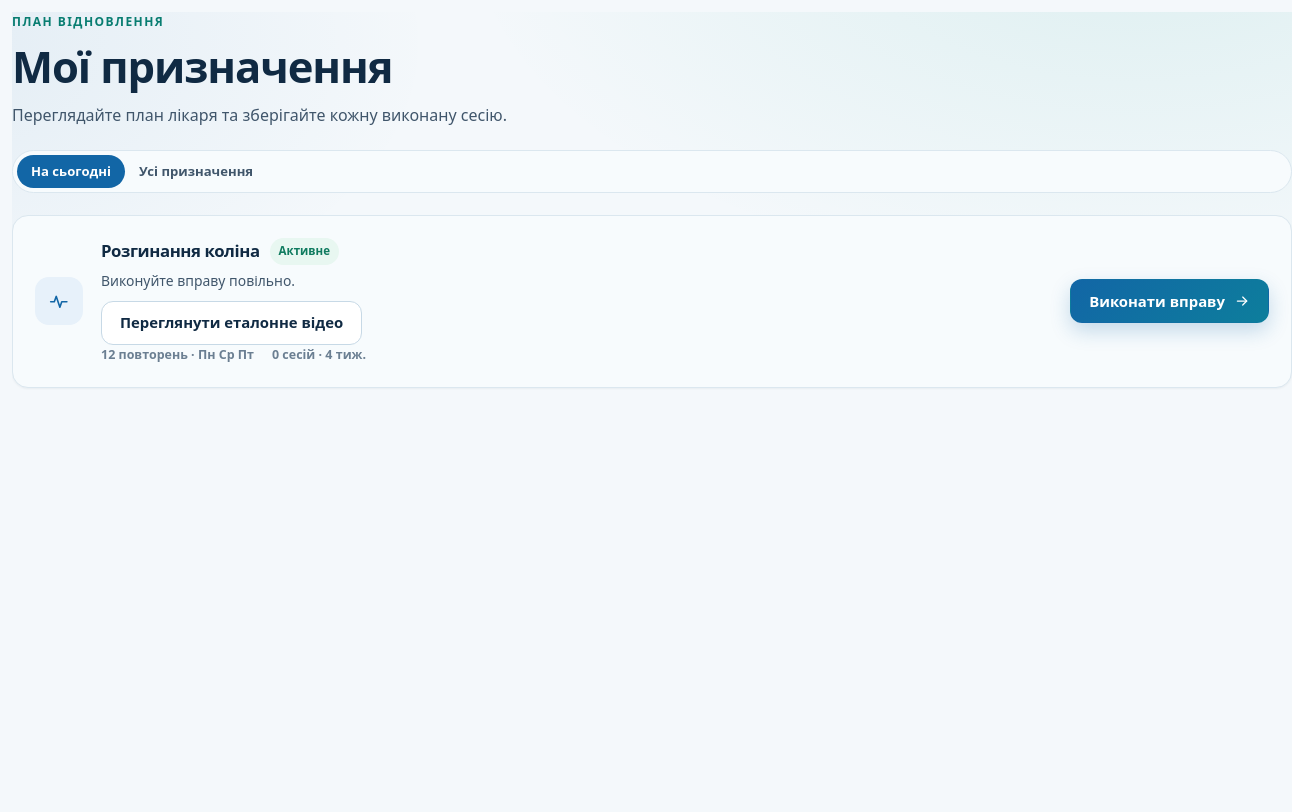
Test: Patient access and cabinet pages › shows the reference video after the patient asks for it
Click the tab "Усі призначення".
click(196, 172)  # box [125,155,267,188]
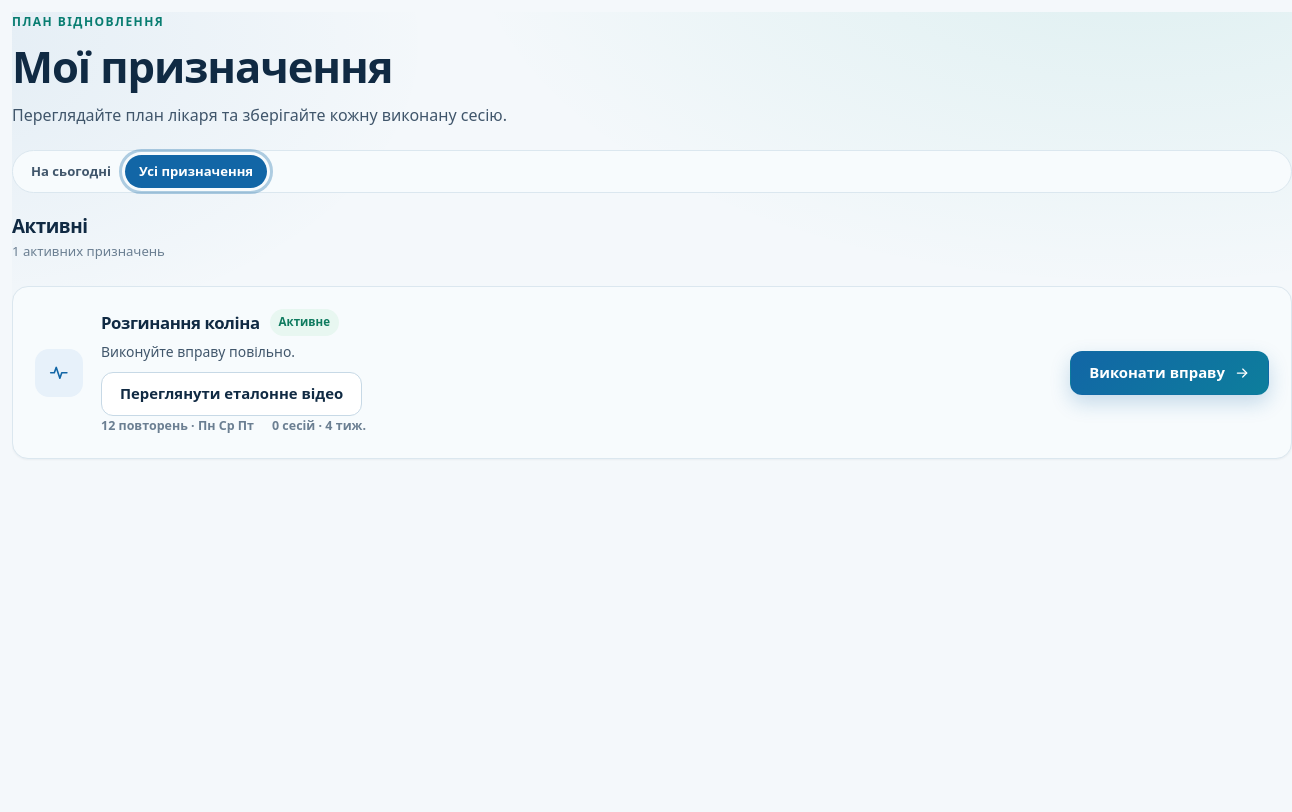
Click the button "Переглянути еталонне відео".
click(232, 394)  # box [101,372,362,416]
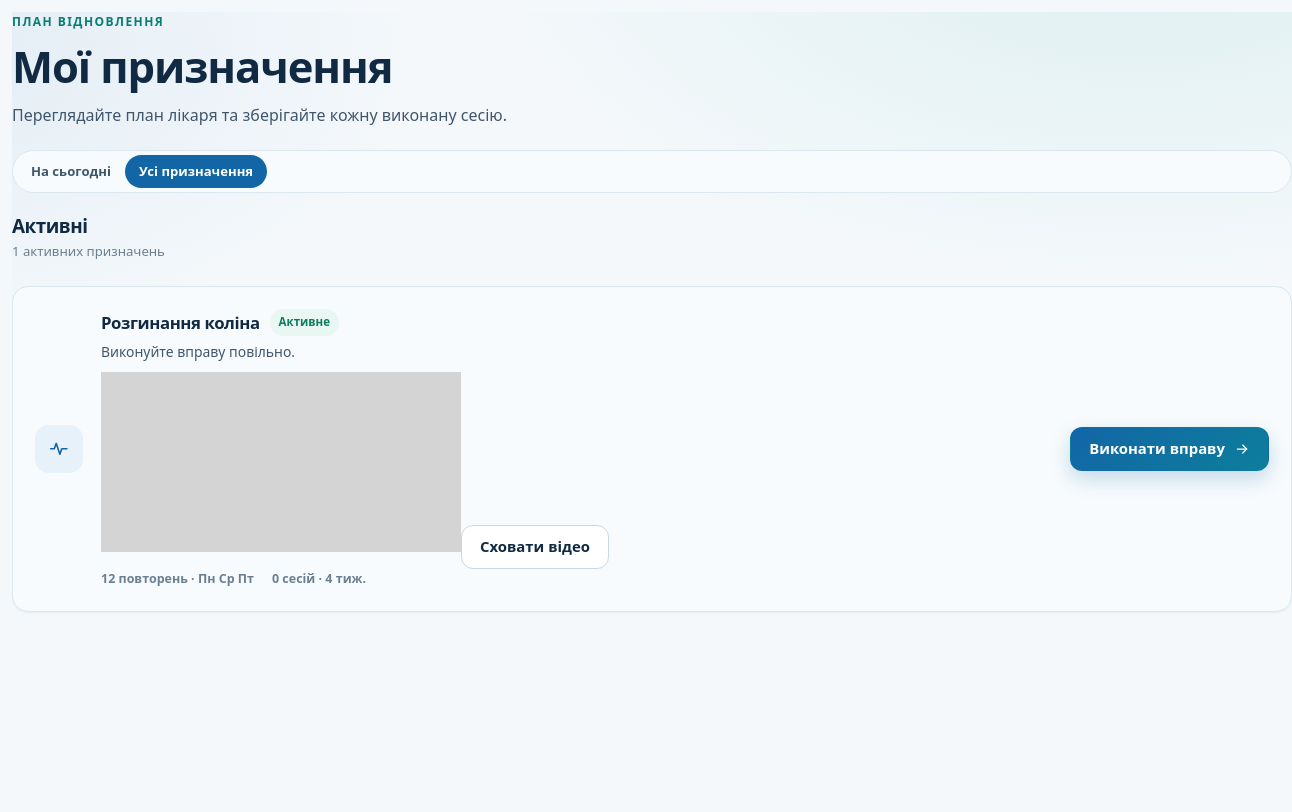
Now the button "Сховати відео" is shown, box [461,525,609,569]
